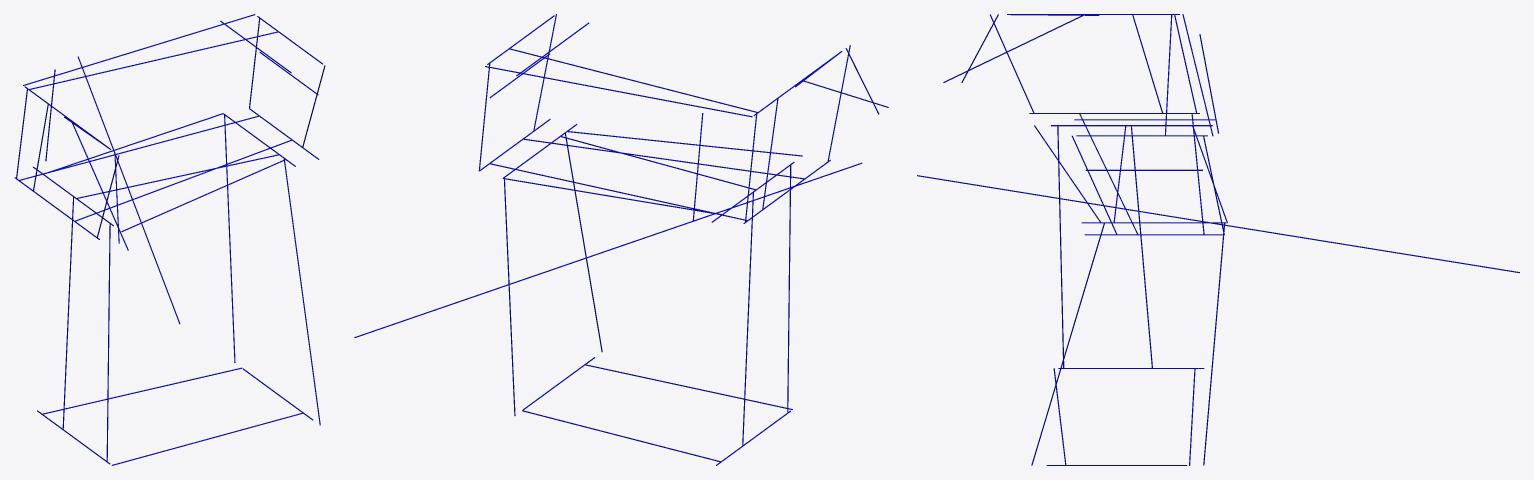
File: corrected_3d_strokes.glb
3 views of the same model, side by side, from view 1: azimuth 30°, elevation 25°; view 2: azimuth 150°, elevation 25°; view 3: azimuth 270°, elevation 25° (orthographic). The views are drawn at different scales.
Parts seen in each view (by area): view 1: world; view 2: world; view 3: world.
Boxes of the visible parts, x1=… form: world: x1=14, y1=14, x2=325, y2=465; world: x1=354, y1=14, x2=888, y2=465; world: x1=917, y1=14, x2=1519, y2=465.
Bounding box in the file's own units: 10.08 × 12.54 × 19.98.
